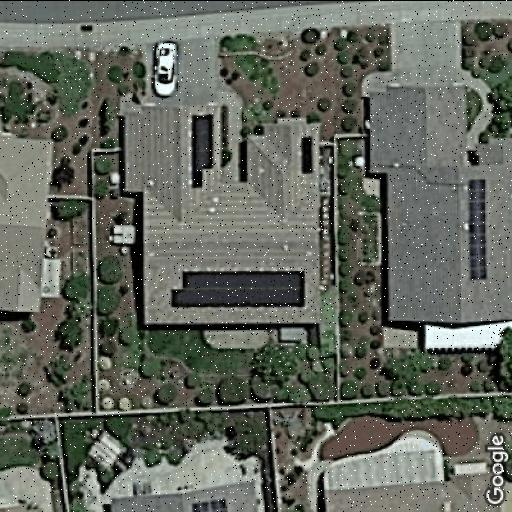solar-panel: (166, 262, 308, 313), (468, 176, 490, 282), (188, 112, 214, 188), (298, 132, 316, 178), (188, 491, 226, 512)
